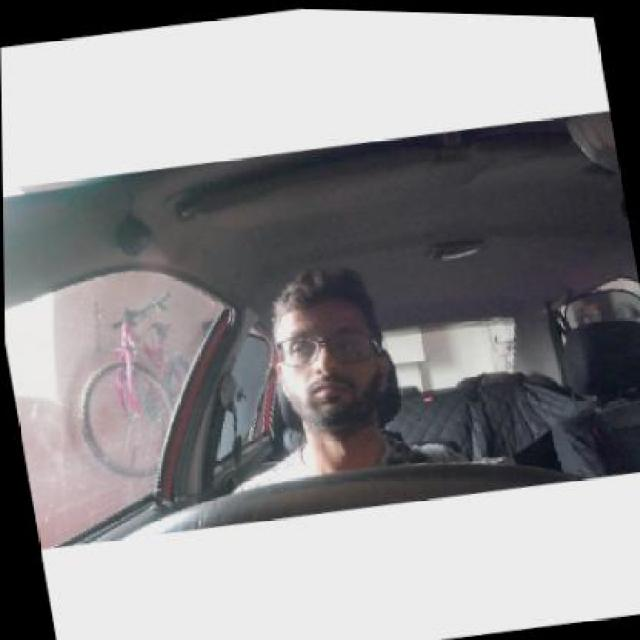person: (269, 272, 396, 440)
